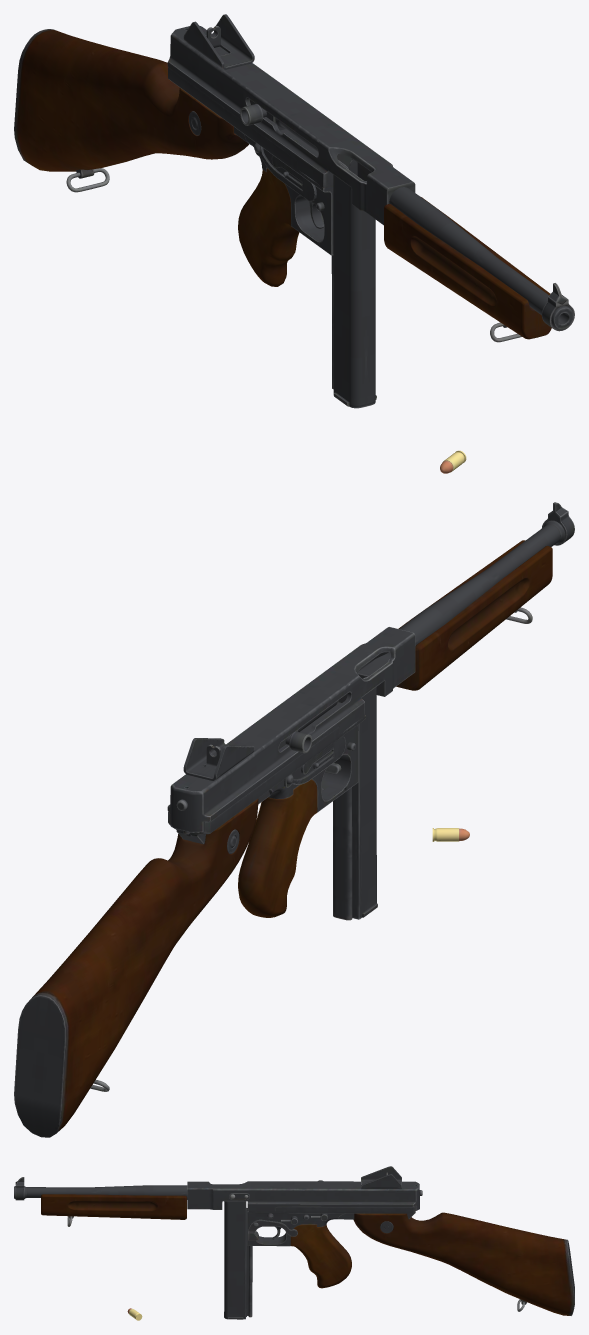
File: gun-thompson.glb
3 views of the same model, one above another, from view 1: azimuth 30°, elevation 25°; view 2: azimuth 150°, elevation 25°; view 3: azimuth 270°, elevation 25° (orthographic). The views are drawn at different scales.
Parts seen in each view (by area): view 1: M1A1_M1A1_Thompson_0, mag_M1A1_Thompson_0, bolt_M1A1_Thompson_0; view 2: M1A1_M1A1_Thompson_0, mag_M1A1_Thompson_0; view 3: M1A1_M1A1_Thompson_0, mag_M1A1_Thompson_0, mag_lock_M1A1_Thompson_0.
Boxes of the visible parts, x1,y1,x2,y2 form: M1A1_M1A1_Thompson_0: [14, 14, 574, 342]; mag_M1A1_Thompson_0: [331, 158, 376, 408]; bolt_M1A1_Thompson_0: [240, 99, 318, 151]; M1A1_M1A1_Thompson_0: [14, 502, 574, 1137]; mag_M1A1_Thompson_0: [333, 677, 377, 920]; M1A1_M1A1_Thompson_0: [14, 1166, 574, 1315]; mag_M1A1_Thompson_0: [224, 1201, 252, 1319]; mag_lock_M1A1_Thompson_0: [248, 1219, 297, 1240].
Bounding box in the file's own units: 0.025 × 0.1188 × 0.4119.
Materials: 1 (1 with a texture image).
